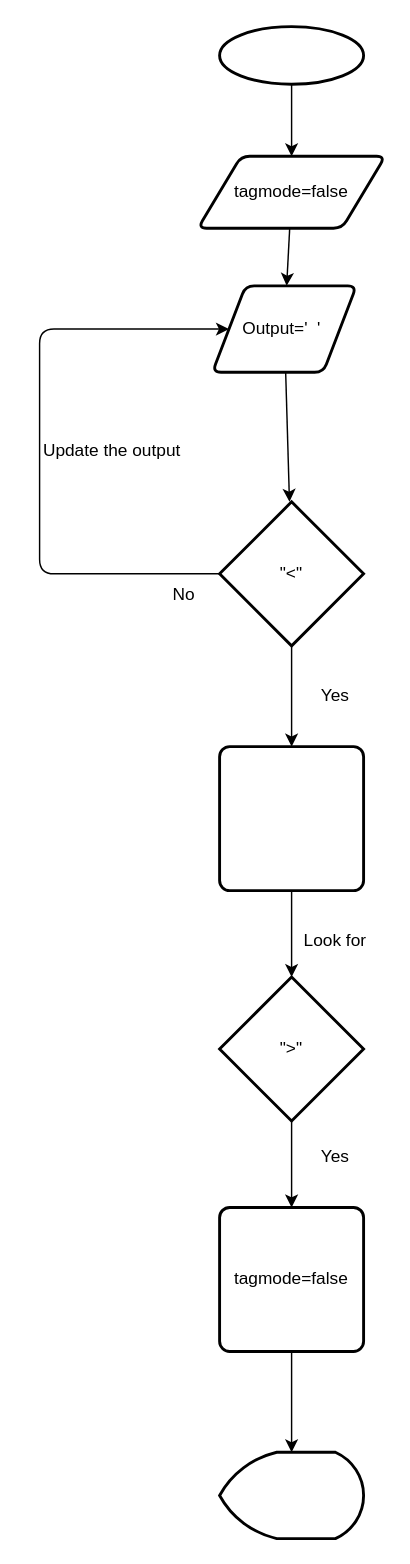
Image size: 410x1564. Some labels were removed from this diagram. The shapes that lost their labels are listed below. From the top down, each one's centre as x and y in pixels, then its label:
At point (290, 54): "Start".
At point (290, 817): "tagmode=true".
At point (290, 1494): "Output display".
